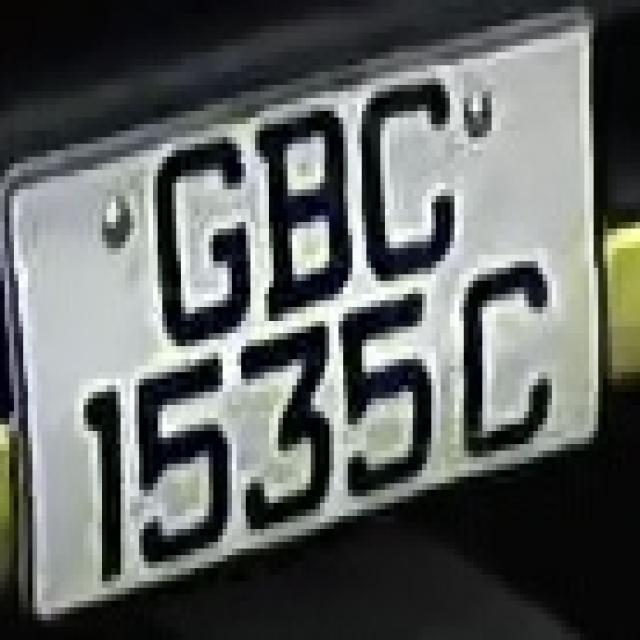1: (84, 353, 139, 627)
3: (209, 320, 348, 536)
5: (125, 346, 246, 562), (329, 255, 436, 490)
B: (242, 91, 366, 320)
C: (357, 59, 464, 281), (450, 254, 556, 463)
G: (130, 98, 246, 359)
